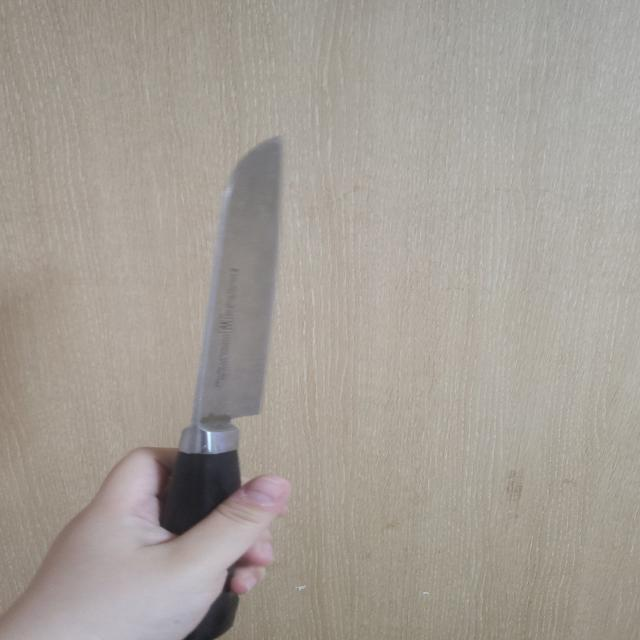knife: (165, 134, 281, 640)
